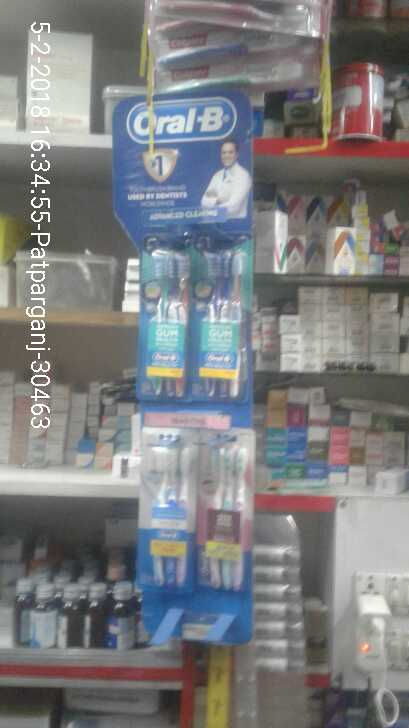oralb: (192, 427, 251, 596), (136, 423, 186, 593), (198, 243, 249, 395), (137, 244, 188, 390)
